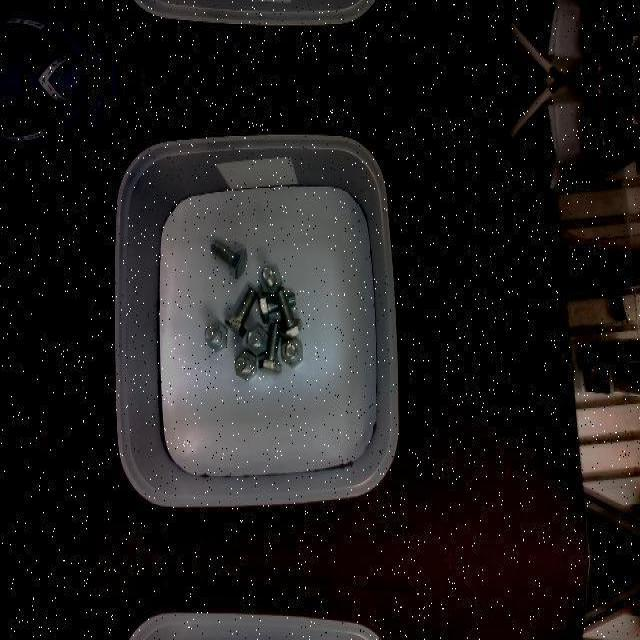screw: (226, 287, 257, 337), (210, 239, 247, 279), (276, 287, 304, 337), (259, 324, 283, 376), (205, 320, 227, 352), (236, 350, 258, 382), (282, 335, 304, 367), (258, 264, 281, 294), (247, 324, 268, 354)
